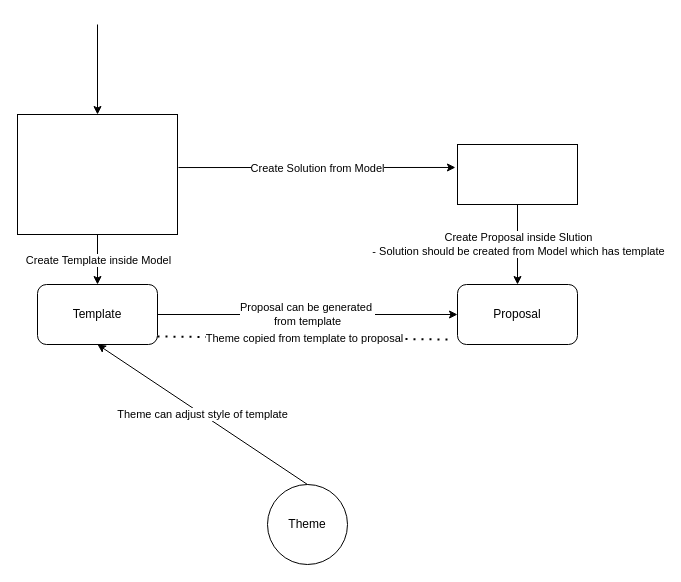
This 681x582 diagram has some shape labels left out. The box of each missing label's shape, as (x1, y1, x2, y2) in pixels:
Model: (16, 114, 178, 234)
Solution: (456, 144, 578, 204)
